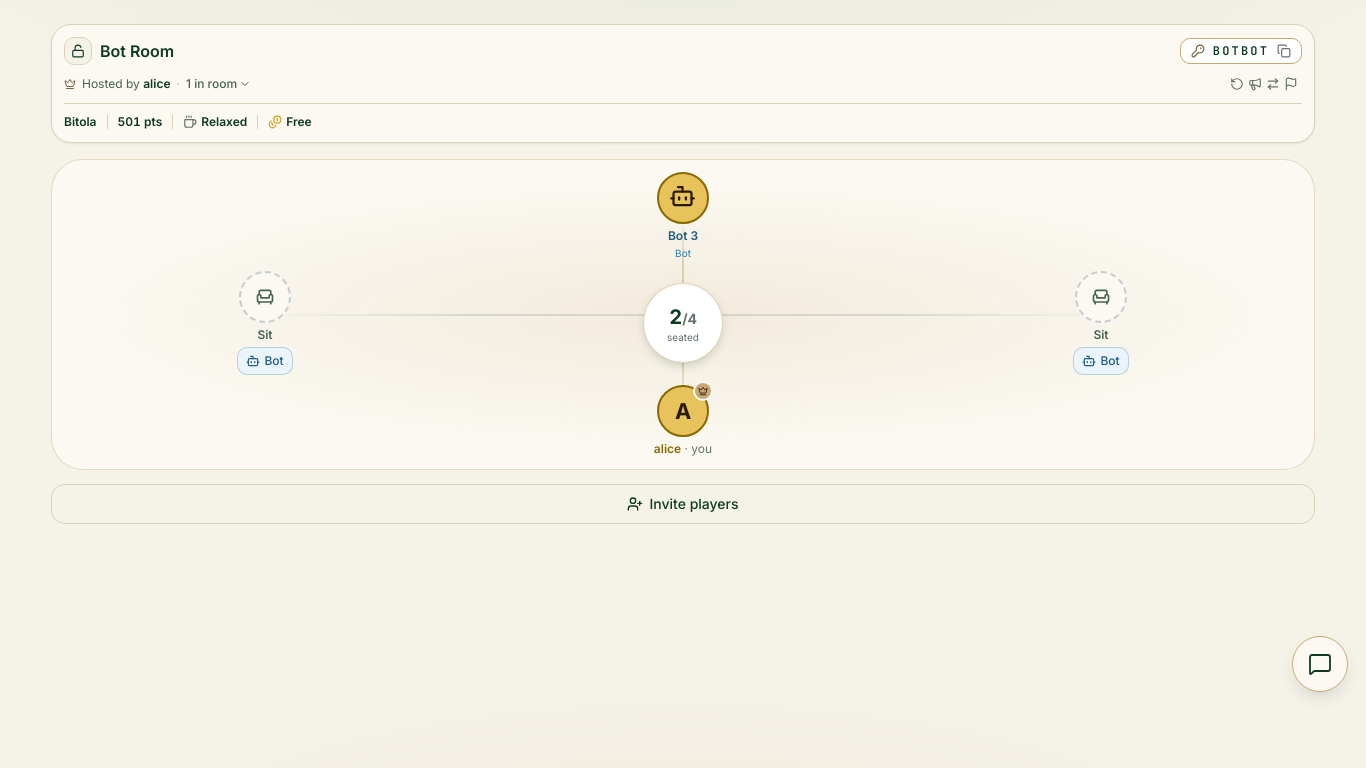
Test case: RoomPage bot seating › a bot's seat actions offer removal but never kick or promote
Click the button with test id "player-seat-2" at (683, 216), box top-left (627, 172), bottom-right (739, 261)
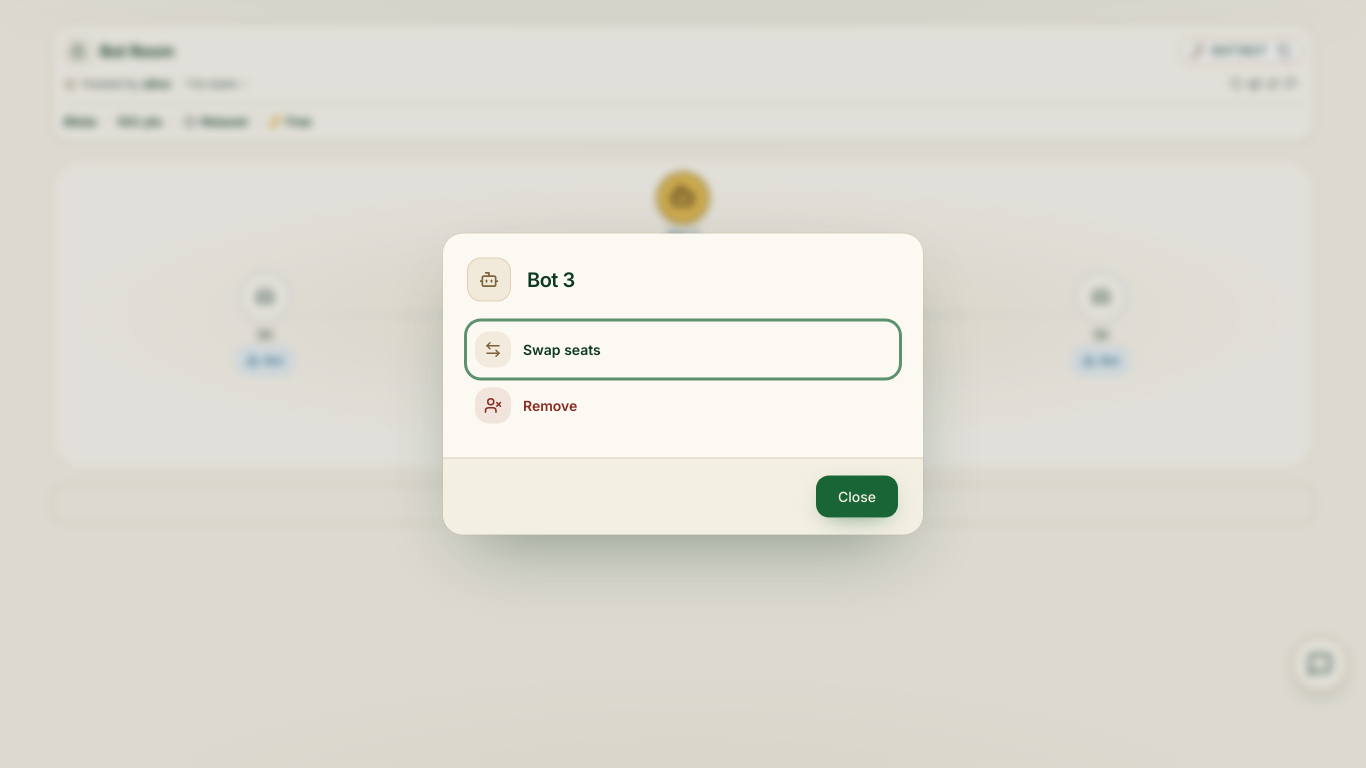
Expected: the button with test id "remove-bot-2" is shown, top-left (467, 378), bottom-right (899, 434)
